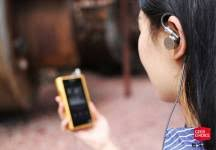earphone: (164, 16, 186, 59)
